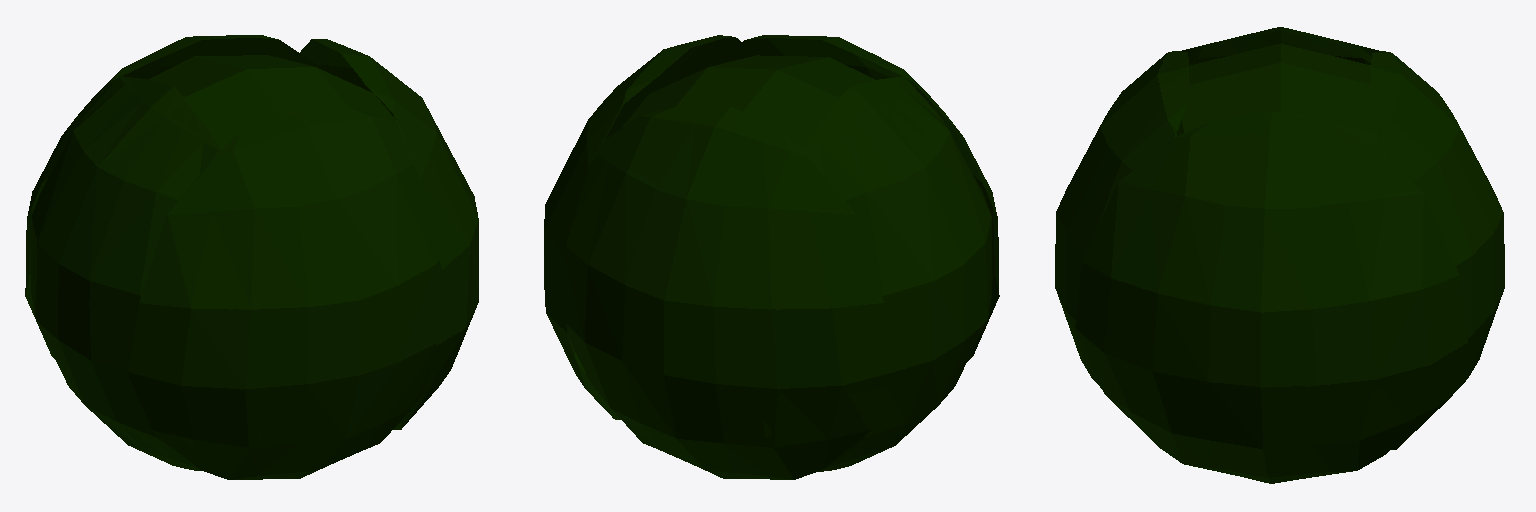
File: Cabbage.obj
The picture shows the model from 3 angles: view 1: azimuth 30°, elevation 25°; view 2: azimuth 150°, elevation 25°; view 3: azimuth 270°, elevation 25°; orthographic projection.
Visible parts, largest first — view 1: Cabbage_Sphere; view 2: Cabbage_Sphere; view 3: Cabbage_Sphere.
Part boxes in pixels (x1,y1,x2,y2): Cabbage_Sphere: (25,35,478,479); Cabbage_Sphere: (544,35,999,479); Cabbage_Sphere: (1055,27,1504,483).
Bounding box in the file's own units: 4.16 × 3.8 × 4.11.